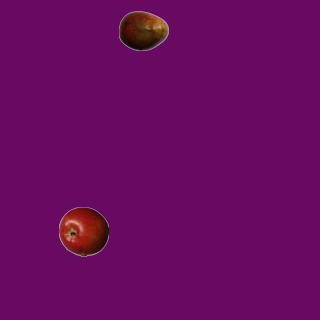Apple Braeburn: (58, 206, 108, 256)
Mango Red: (118, 5, 168, 55)
